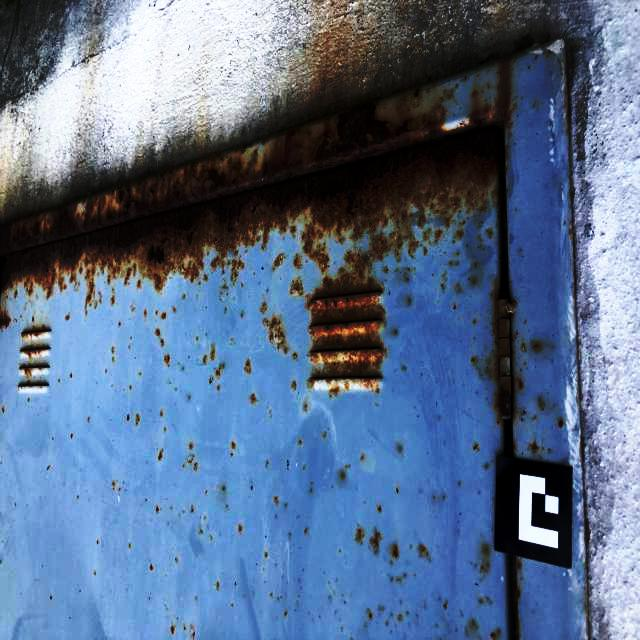Corrosion: (0, 57, 517, 401), (490, 280, 523, 427), (262, 314, 290, 355), (558, 45, 570, 138), (584, 504, 591, 640), (19, 363, 45, 385), (21, 345, 51, 361), (21, 324, 49, 341), (575, 332, 580, 404), (368, 530, 382, 555), (511, 603, 519, 640), (155, 327, 164, 348), (0, 310, 9, 330), (355, 527, 365, 544), (273, 253, 285, 267), (512, 580, 520, 600), (293, 254, 303, 269), (183, 455, 194, 468), (243, 359, 252, 373), (569, 176, 572, 213), (569, 217, 573, 244), (260, 300, 267, 315), (162, 354, 170, 367), (18, 386, 43, 390), (538, 398, 545, 411), (419, 545, 428, 555), (533, 342, 542, 352), (542, 50, 553, 58), (482, 546, 490, 556), (532, 442, 539, 453), (513, 438, 517, 457), (210, 346, 215, 360), (158, 449, 164, 460), (215, 368, 221, 379), (237, 524, 243, 535), (517, 557, 522, 570), (251, 394, 258, 403), (135, 414, 140, 426), (580, 433, 582, 462), (190, 626, 194, 640), (64, 310, 69, 321), (393, 547, 398, 558), (110, 346, 114, 359), (160, 312, 166, 320), (490, 631, 496, 639), (216, 580, 220, 592), (292, 380, 296, 390), (558, 420, 563, 428), (170, 626, 174, 636), (522, 344, 527, 352), (194, 463, 198, 472), (304, 402, 308, 411), (486, 229, 491, 236), (298, 440, 303, 447), (33, 381, 44, 384), (377, 506, 381, 514), (202, 355, 206, 363), (148, 566, 153, 572), (45, 466, 50, 472), (1, 406, 5, 413), (159, 409, 163, 416), (231, 442, 235, 449), (12, 318, 17, 323), (155, 506, 159, 512), (112, 482, 115, 490), (264, 552, 268, 558), (473, 444, 477, 450), (443, 604, 447, 610), (127, 544, 131, 550), (131, 304, 134, 312), (189, 444, 193, 450), (200, 528, 203, 536), (223, 308, 227, 314), (191, 505, 194, 512), (396, 488, 399, 495), (293, 354, 297, 359), (216, 386, 220, 391), (144, 310, 147, 316), (104, 368, 107, 374), (182, 294, 185, 300), (195, 336, 198, 342), (473, 358, 476, 364), (287, 460, 289, 468), (522, 411, 526, 415), (31, 316, 34, 321), (173, 307, 176, 312), (118, 322, 121, 327), (273, 497, 278, 500), (209, 378, 212, 383), (230, 453, 233, 457), (535, 55, 538, 59), (68, 374, 71, 378), (70, 434, 72, 439), (27, 398, 29, 402), (164, 427, 166, 431), (273, 267, 275, 271), (139, 372, 141, 375), (528, 66, 530, 69)
